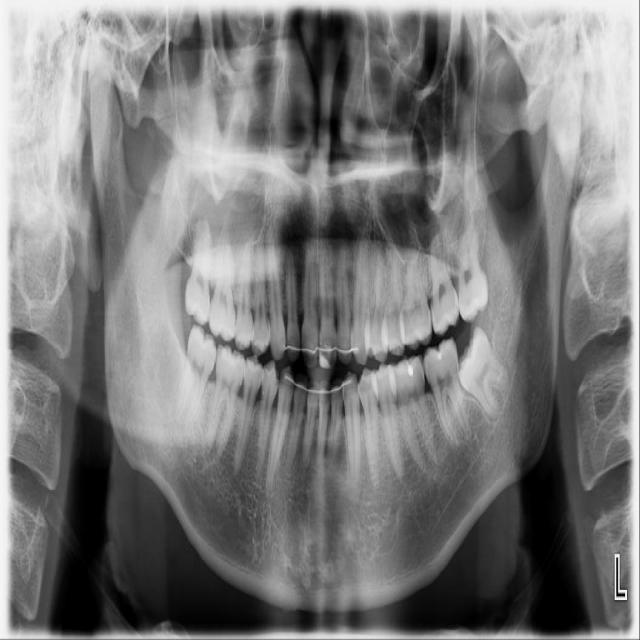Filling: (320, 355, 330, 369), (407, 365, 414, 375), (438, 352, 442, 359)
impacted tooth: (457, 324, 510, 420)
